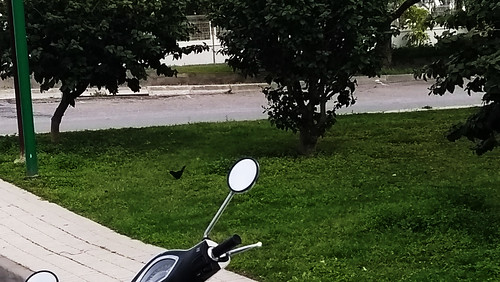grass: (31, 111, 500, 282)
street: (55, 74, 474, 133)
tree: (210, 1, 399, 153), (9, 1, 190, 143), (410, 5, 500, 172)
